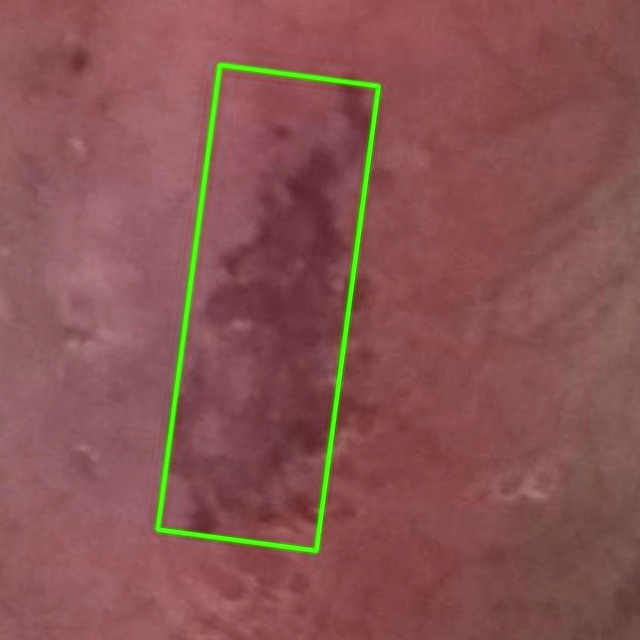Eczema: (157, 64, 378, 550)
